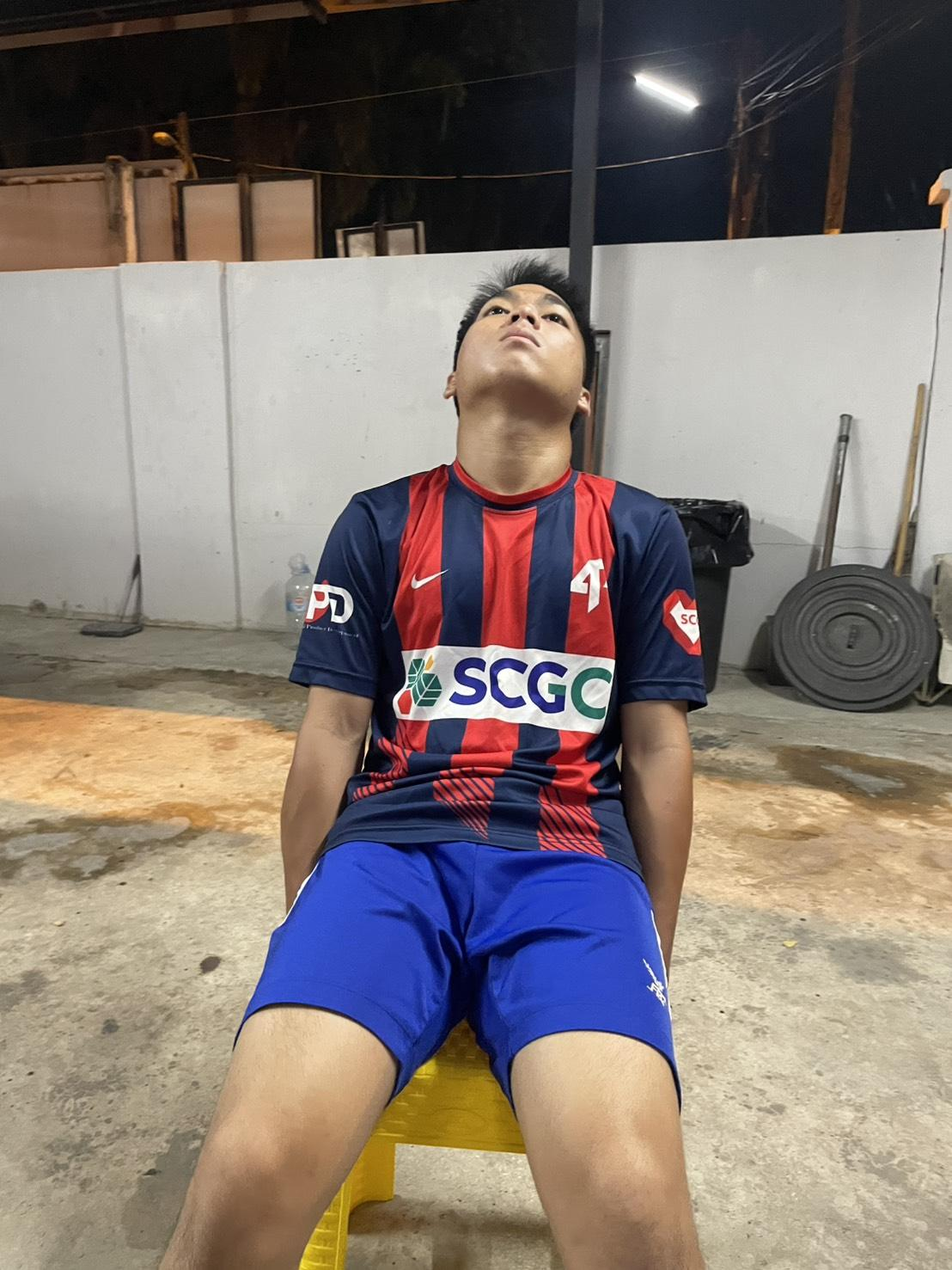BadPosture: (281, 260, 704, 942)
